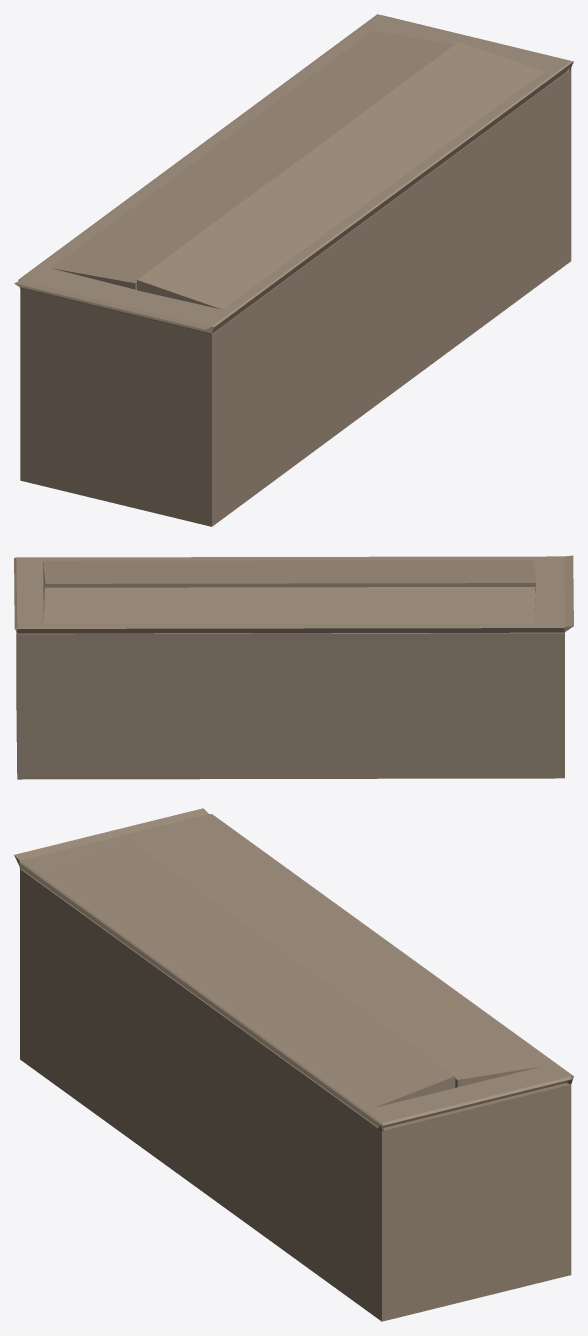
Rendered from Closed large box.fbx.
3 views of the same model, one above another, from view 1: azimuth 30°, elevation 25°; view 2: azimuth 150°, elevation 25°; view 3: azimuth 270°, elevation 25° (orthographic). The views are drawn at different scales.
Parts seen in each view (by area): view 1: Cardboard_box_7; view 2: Cardboard_box_7; view 3: Cardboard_box_7.
Part boxes in pixels (x1,y1,x2,y2): Cardboard_box_7: (14,14,573,526); Cardboard_box_7: (14,555,573,779); Cardboard_box_7: (14,808,573,1321).
Size of the model in its own units: 137 by 42.53 by 103.
